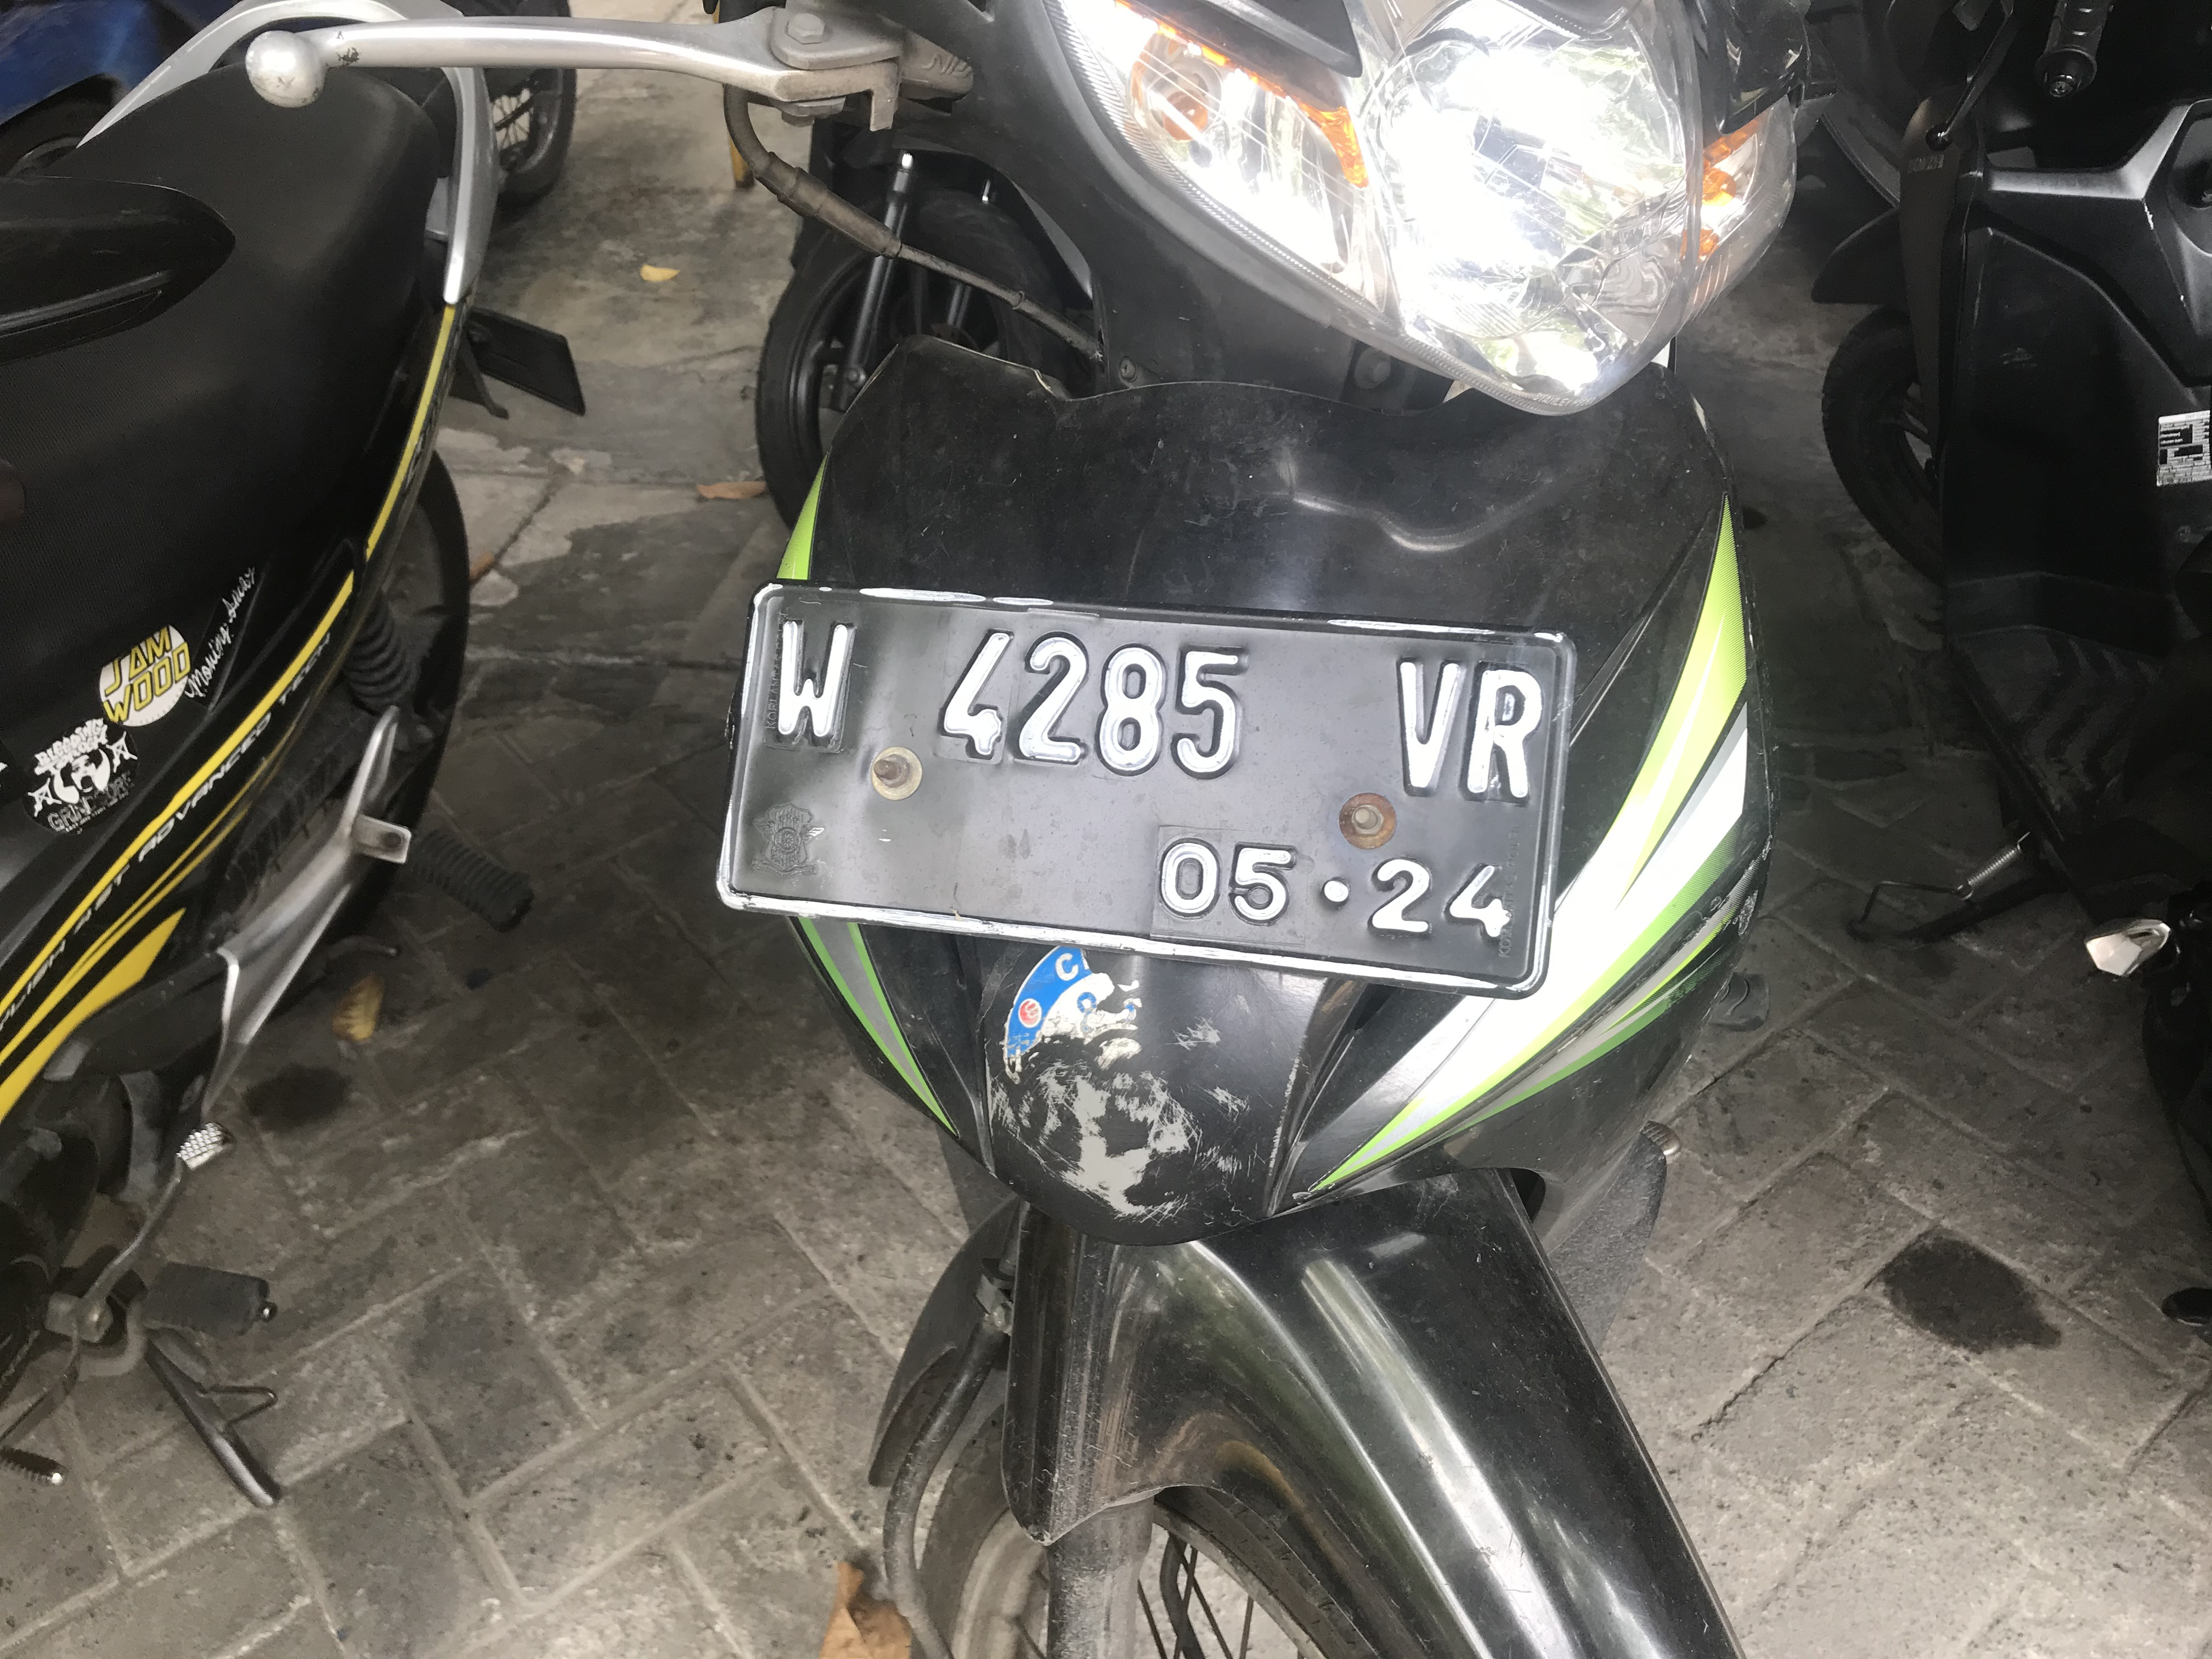plate: (721, 575, 1548, 988)
